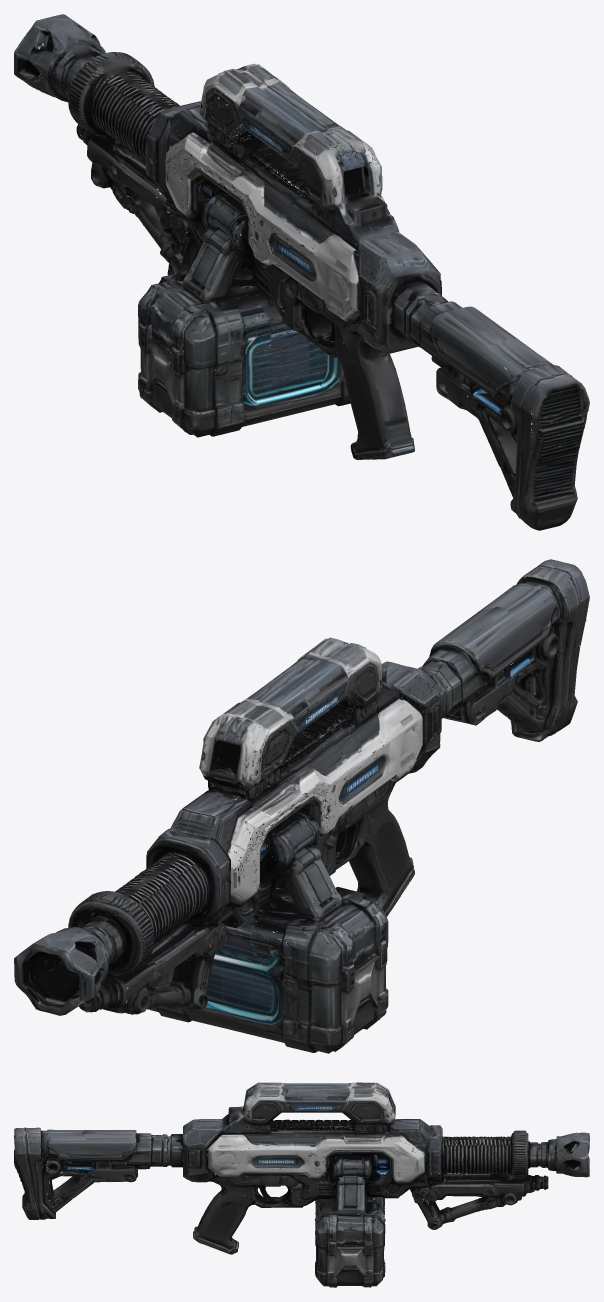
The model's file is em68l_viewmodel_reload.glb.
3 views of the same model, one above another, from view 1: azimuth 30°, elevation 25°; view 2: azimuth 150°, elevation 25°; view 3: azimuth 270°, elevation 25° (orthographic). The views are drawn at different scales.
Visible parts, largest first — view 1: Body, DetachableMagazine; view 2: Body, DetachableMagazine; view 3: Body, DetachableMagazine.
Boxes of the visible parts, x1,y1,x2,y2 form: Body: (14, 14, 589, 530); DetachableMagazine: (138, 203, 358, 437); Body: (14, 559, 589, 1044); DetachableMagazine: (147, 818, 388, 1053); Body: (14, 1082, 589, 1272); DetachableMagazine: (314, 1150, 385, 1287).
Size of the model in its own units: 0.2609 by 0.3724 by 1.1.
1 material, 1 textured.
